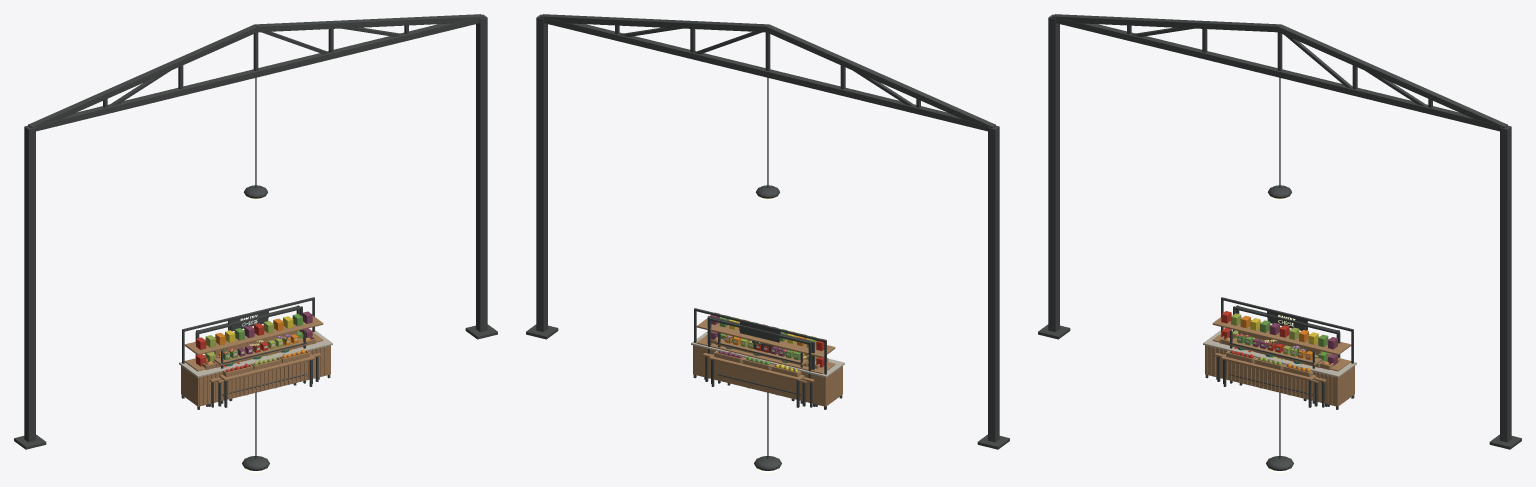
The model's file is market-hall-interior.glb.
3 views of the same model, side by side, from view 1: azimuth 30°, elevation 25°; view 2: azimuth 150°, elevation 25°; view 3: azimuth 330°, elevation 25° (orthographic).
Parts seen in each view (by area): view 1: hall_roof_frame Charcoal powder coat, hall_bakery Oiled oak, hall_pantry Oiled oak, hall_shelf Oiled oak, hall_produce Oiled oak, hall_cheese Charcoal powder coat, hall_bakery Cream terrazzo, hall_pantry Charcoal powder coat; view 2: hall_roof_frame Charcoal powder coat, hall_bakery Oiled oak, hall_pantry Oiled oak, hall_flowers Charcoal powder coat, hall_produce Oiled oak, hall_shelf Oiled oak, hall_bakery Charcoal powder coat, hall_bakery Cream terrazzo; view 3: hall_roof_frame Charcoal powder coat, hall_bakery Oiled oak, hall_pantry Oiled oak, hall_shelf Oiled oak, hall_produce Oiled oak, hall_cheese Charcoal powder coat, hall_bakery Charcoal powder coat, hall_bakery Cream terrazzo.
Boxes of the visible parts, x1,y1,x2,y2 form: hall_roof_frame Charcoal powder coat: (14,14,497,449); hall_bakery Oiled oak: (181,332,330,406); hall_pantry Oiled oak: (184,315,323,371); hall_shelf Oiled oak: (205,331,308,396); hall_produce Oiled oak: (203,352,314,380); hall_cheese Charcoal powder coat: (195,306,302,406); hall_bakery Cream terrazzo: (179,330,332,377); hall_pantry Charcoal powder coat: (181,298,330,409); hall_roof_frame Charcoal powder coat: (526,14,1009,449); hall_bakery Oiled oak: (693,339,842,406); hall_pantry Oiled oak: (696,318,835,374); hall_flowers Charcoal powder coat: (705,317,812,407); hall_produce Oiled oak: (709,352,804,380); hall_shelf Oiled oak: (715,339,808,396); hall_bakery Charcoal powder coat: (693,308,841,409); hall_bakery Cream terrazzo: (691,331,844,377); hall_roof_frame Charcoal powder coat: (1038,14,1521,449); hall_bakery Oiled oak: (1205,339,1354,406); hall_pantry Oiled oak: (1212,315,1351,371); hall_shelf Oiled oak: (1227,331,1330,396); hall_produce Oiled oak: (1221,352,1330,380); hall_cheese Charcoal powder coat: (1233,306,1340,406); hall_bakery Charcoal powder coat: (1205,297,1352,409); hall_bakery Cream terrazzo: (1203,330,1356,377).
Size of what is drawn, in the model's own units: 14.64 by 13.16 by 1.5.
